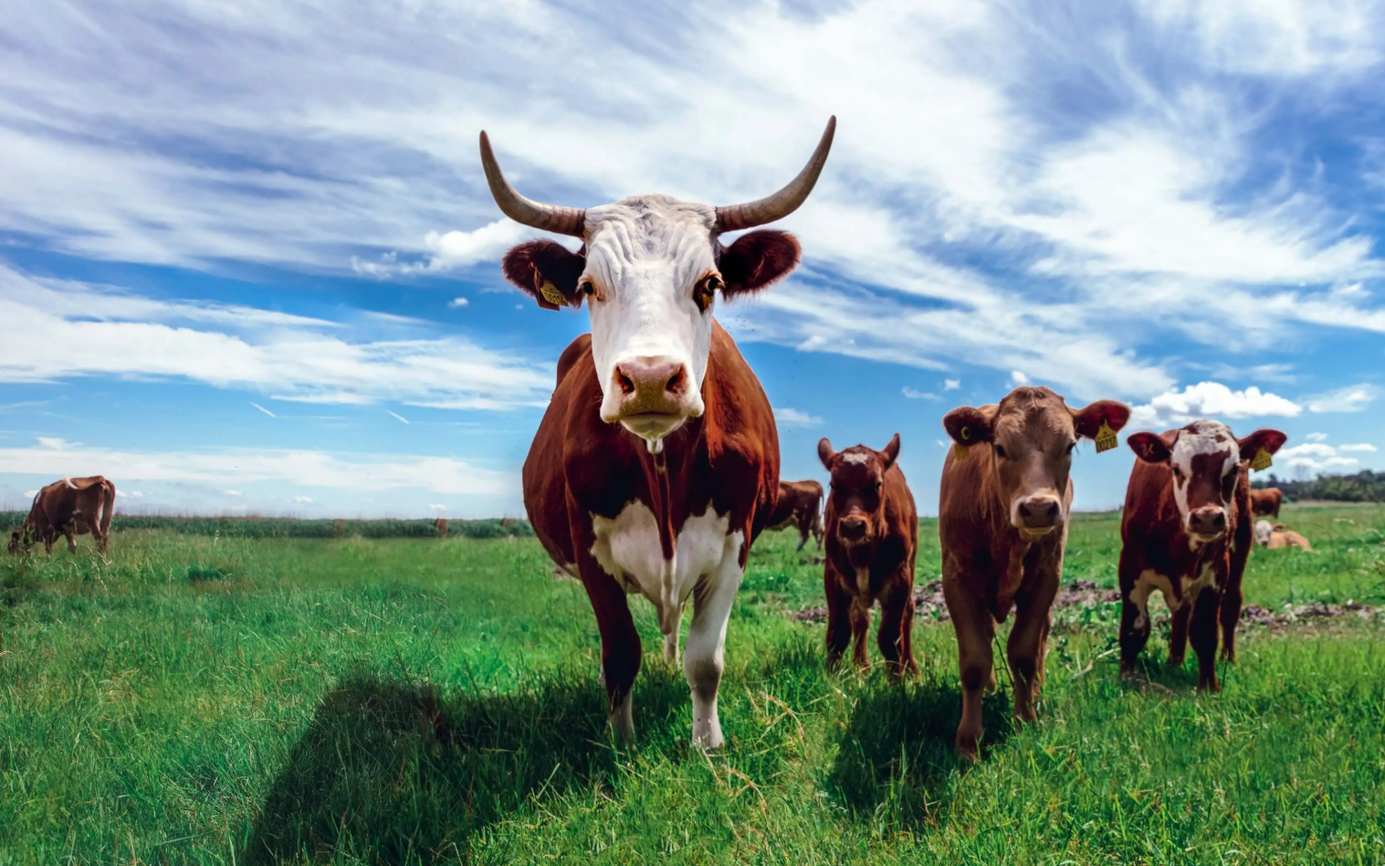bovino: (496, 115, 802, 760), (932, 385, 1131, 760), (1103, 417, 1292, 702), (812, 429, 930, 685), (10, 475, 117, 562)
